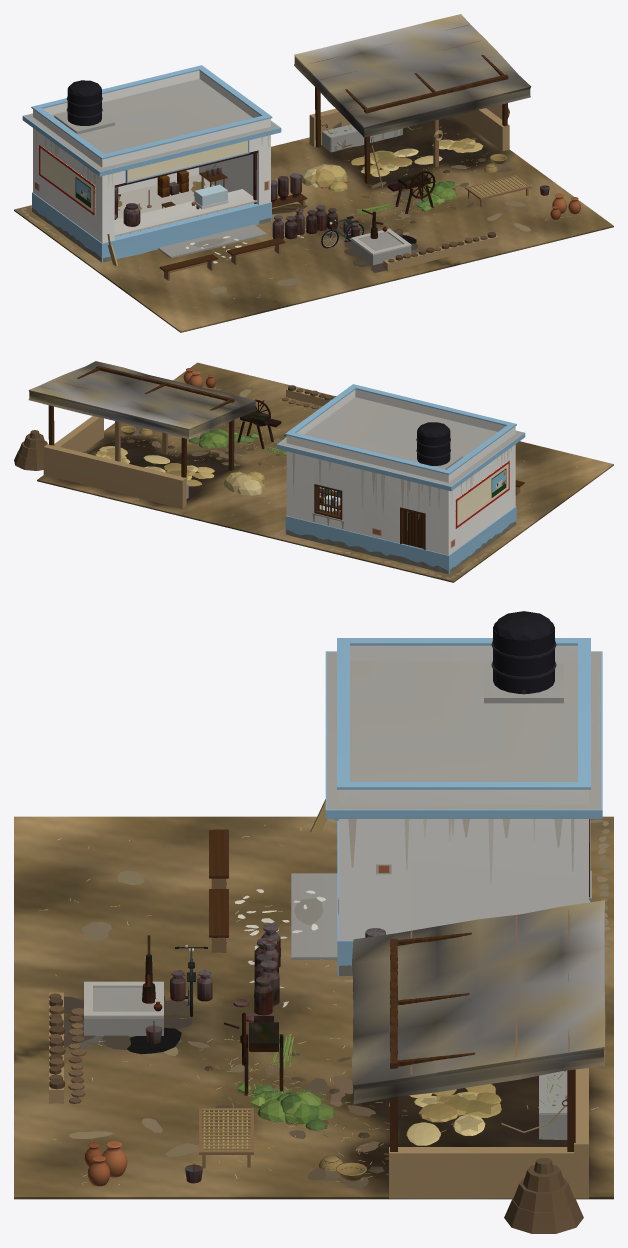
File: dudh_dairy_v2.glb
The picture shows the model from 3 angles, top to bottom: view 1: azimuth 30°, elevation 25°; view 2: azimuth 150°, elevation 25°; view 3: azimuth 270°, elevation 25°; orthographic projection. The views are drawn at different scales.
Parts seen in each view (by area): view 1: hb_main, hb_jute, hb_thatch, hb_metal, hb_props; view 2: hb_main, hb_jute, hb_thatch, hb_props, hb_metal, picture; view 3: hb_jute, hb_main, hb_thatch, hb_props, hb_metal.
Part boxes in pixels (<box>): hb_main: <box>22,65,580,271</box>; hb_jute: <box>14,116,613,332</box>; hb_thatch: <box>294,14,531,137</box>; hb_metal: <box>114,124,549,239</box>; hb_props: <box>147,24,531,280</box>; hb_main: <box>14,368,525,573</box>; hb_jute: <box>37,362,613,582</box>; hb_thatch: <box>28,361,255,439</box>; hb_props: <box>40,365,524,549</box>; hb_metal: <box>237,399,340,513</box>; picture: <box>491,468,506,497</box>; hb_jute: <box>14,816,613,1199</box>; hb_main: <box>49,611,602,1233</box>; hb_thatch: <box>352,900,605,1104</box>; hb_props: <box>199,819,589,1168</box>; hb_metal: <box>142,690,567,1183</box>.
Bounding box in the file's own units: 19.66 × 5.34 × 12.
7 materials, 1 textured.
